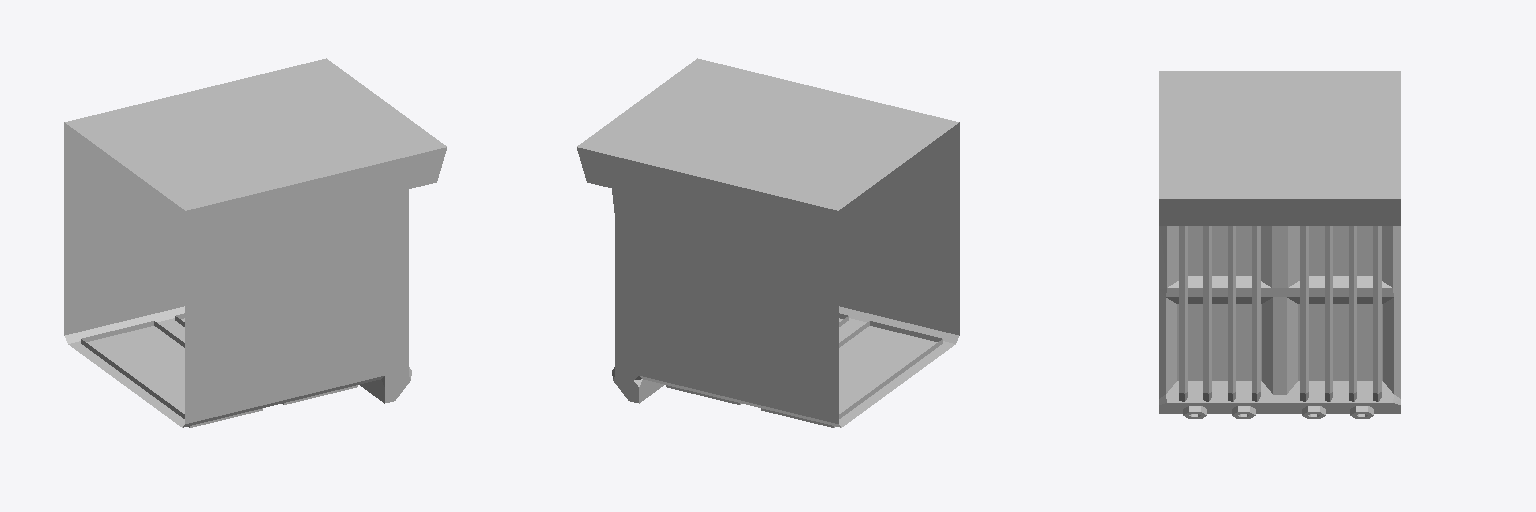
File: kitchenStove.obj
The picture shows the model from 3 angles: view 1: azimuth 30°, elevation 25°; view 2: azimuth 150°, elevation 25°; view 3: azimuth 270°, elevation 25°; orthographic projection.
Parts seen in each view (by area): view 1: Cube.001; view 2: Cube.001; view 3: Cube.001, Cylinder.011.
Boxes of the visible parts, <box> form: Cube.001: <box>64,58,446,427</box>; Cube.001: <box>577,58,959,427</box>; Cube.001: <box>1159,71,1400,413</box>; Cylinder.011: <box>1179,226,1381,418</box>.
Bounding box in the file's own units: 12.5 × 11.06 × 10.